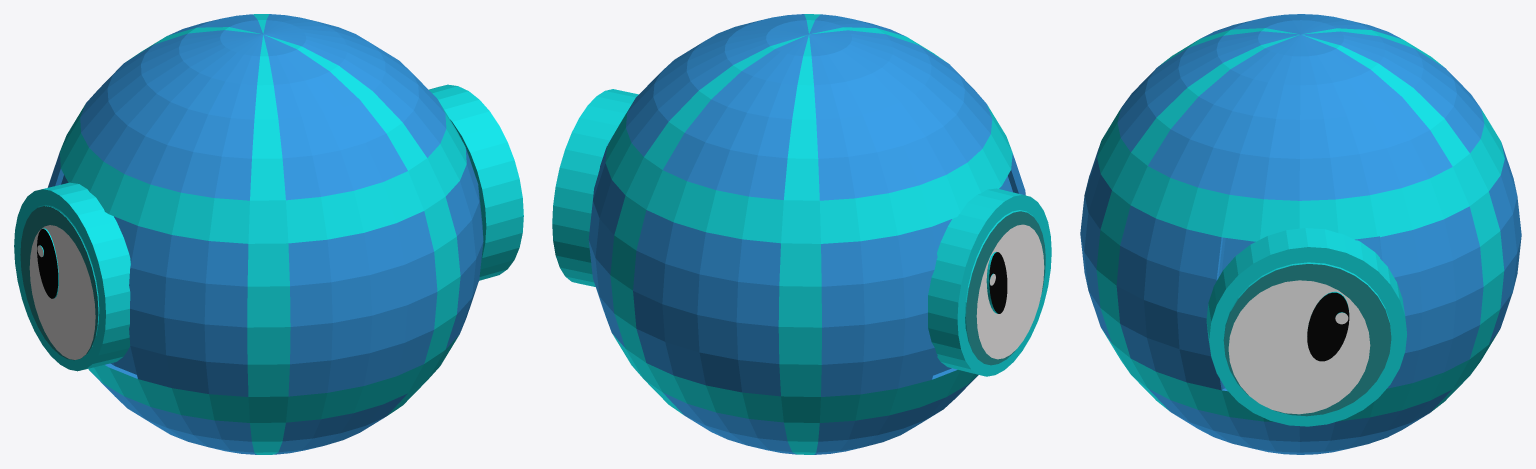
Rendered from ojosBola.glb.
The picture shows the model from 3 angles, left to right: view 1: azimuth 30°, elevation 25°; view 2: azimuth 150°, elevation 25°; view 3: azimuth 270°, elevation 25°; orthographic projection.
Visible parts, largest first — view 1: Sphere, Circle, Circle.001; view 2: Sphere, Circle, Circle.001; view 3: Sphere, Circle.001.
Boxes of the visible parts, <box> form: Sphere: <box>47,14,483,454</box>; Circle: <box>14,182,130,371</box>; Circle.001: <box>429,84,523,280</box>; Sphere: <box>588,14,1025,454</box>; Circle: <box>928,188,1051,376</box>; Circle.001: <box>552,89,638,286</box>; Sphere: <box>1080,14,1521,454</box>; Circle.001: <box>1206,228,1406,426</box>.
Bounding box in the file's own units: 2.19 × 2 × 2.
